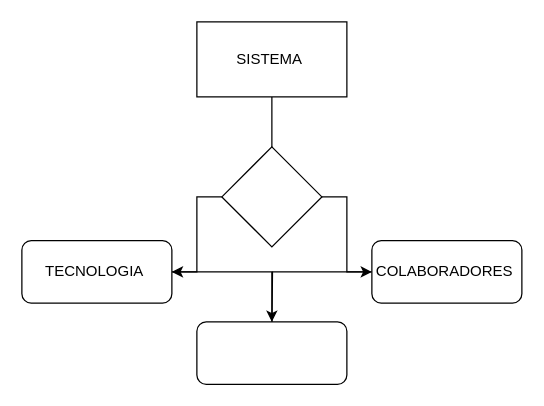
The diagram is 544 pixels wide and 406 high, and some of its shapes have lost their labels. The centre of each missing label's shape, as x and y in pixels:
AVALIAÇÃO: point 271,196
EMPRESAS: point 271,352
